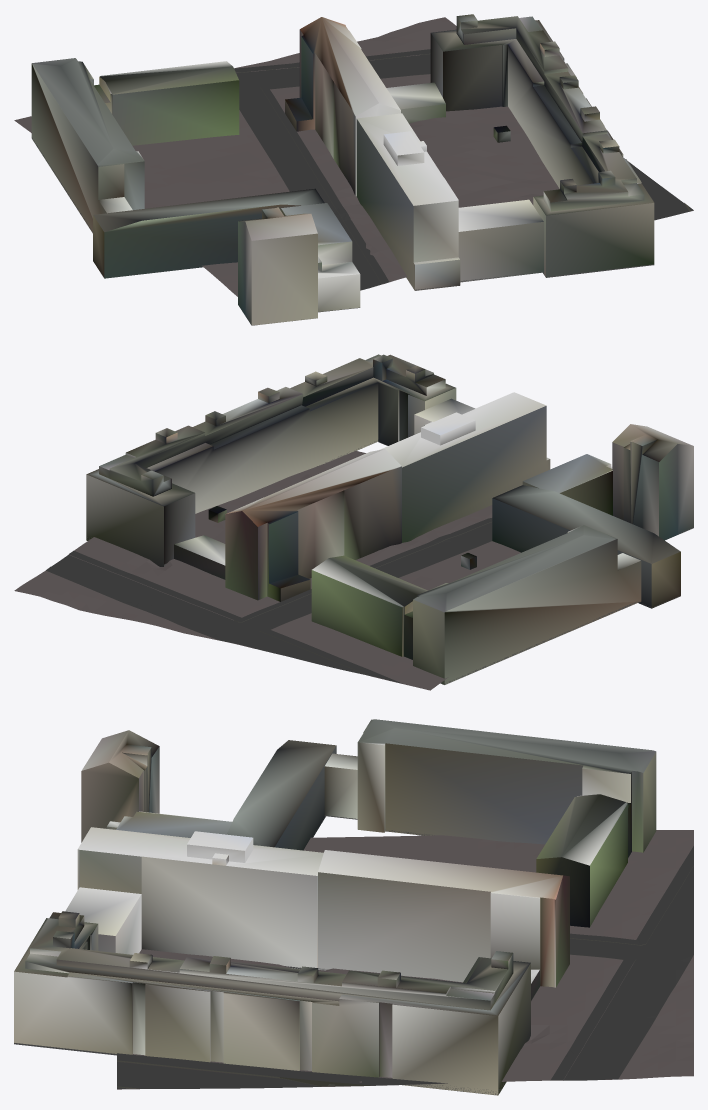
3 views of the same model, one above another, from view 1: azimuth 30°, elevation 25°; view 2: azimuth 150°, elevation 25°; view 3: azimuth 270°, elevation 25° (orthographic). The views are drawn at different scales.
Visible parts, largest first — view 1: c_m12_p02; view 2: c_m12_p02; view 3: c_m12_p02.
Boxes of the visible parts, x1=… form: c_m12_p02: x1=14, y1=14, x2=693, y2=325; c_m12_p02: x1=14, y1=354, x2=693, y2=690; c_m12_p02: x1=14, y1=719, x2=693, y2=1095.
Bounding box in the file's own units: 156 × 30.75 × 151.
